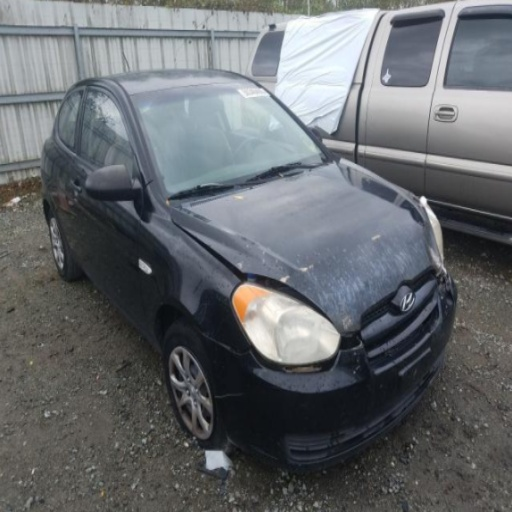dent: (425, 223, 443, 272)
rust: (182, 407, 192, 426), (171, 362, 176, 374), (197, 427, 204, 432), (192, 429, 196, 435)
